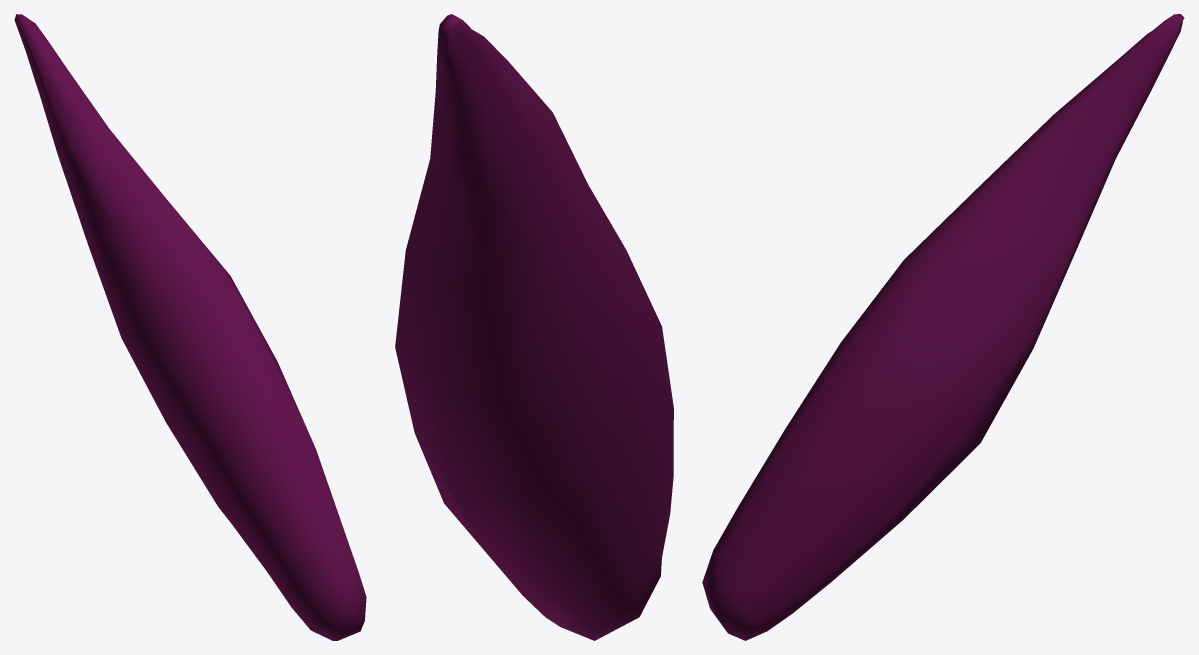
File: SM_Thorn_02_Norm_F.FBX
The picture shows the model from 3 angles, left to right: view 1: azimuth 30°, elevation 25°; view 2: azimuth 150°, elevation 25°; view 3: azimuth 270°, elevation 25°; orthographic projection. The views are drawn at different scales.
Visible parts, largest first — view 1: Object004; view 2: Object004; view 3: Object004.
Part boxes in pixels (x1,y1,x2,y2): Object004: (14, 14, 366, 640); Object004: (395, 14, 673, 640); Object004: (702, 14, 1184, 640).
Bounding box in the file's own units: 138 × 469 × 366.
